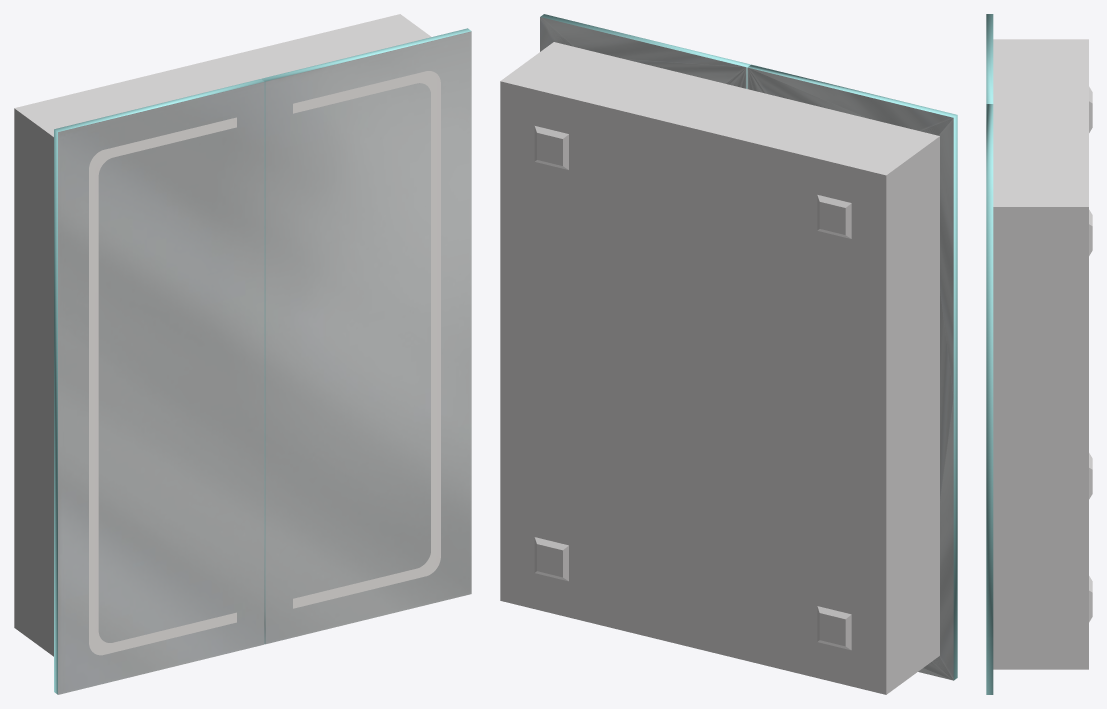
File: bathroom_cupboard_mirror.glb
The picture shows the model from 3 angles, left to right: view 1: azimuth 30°, elevation 25°; view 2: azimuth 150°, elevation 25°; view 3: azimuth 270°, elevation 25°; orthographic projection. The views are drawn at different scales.
Visible parts, largest first — view 1: Node6, Node7, Node2, Node10, Node3, Node4, Node12; view 2: Node2, Node1, Node5, Node4, Node8, Node13, Node9, Node11, Node12; view 3: Node2, Node12, Node4.
Part boxes in pixels (box(x1,y1,x2,y2)): Node6: box(58, 82, 264, 694); Node7: box(265, 31, 471, 644); Node2: box(14, 14, 431, 656); Node10: box(293, 71, 440, 608); Node3: box(89, 117, 236, 655); Node4: box(54, 79, 263, 694); Node12: box(261, 28, 471, 643); Node2: box(500, 42, 939, 694); Node1: box(747, 67, 953, 680); Node5: box(540, 17, 746, 88); Node4: box(747, 64, 957, 680); Node8: box(817, 606, 851, 650); Node13: box(534, 537, 568, 581); Node9: box(534, 126, 568, 169); Node11: box(817, 195, 851, 238); Node12: box(540, 14, 750, 88); Node2: box(993, 39, 1088, 669); Node12: box(986, 104, 993, 694); Node4: box(986, 14, 993, 103).
Bounding box in the file's own units: 60 × 78 × 15.
Materials: 4 (1 with a texture image).
